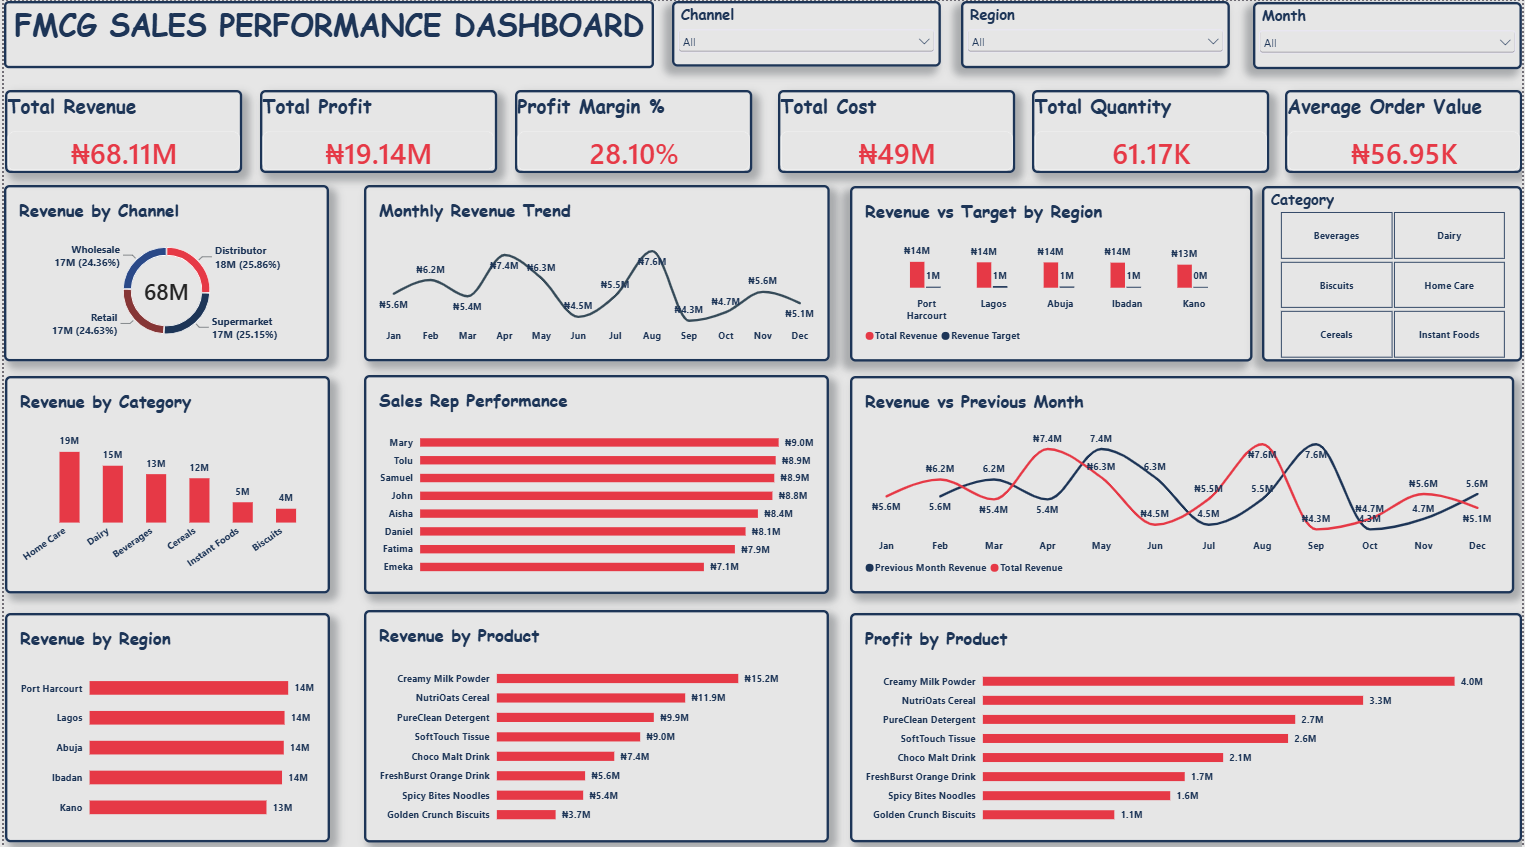

What the dashboard file says about the page in this screenshot:
{"tool":"powerbi","page":{"name":"Management Dashboard","canvas":[1920,1080],"ordinal":0},"visuals":[{"type":"cardVisual","title":"Total Revenue","fields":{"Data":["Measure Table.Total Revenue"]},"box":[1.3,112.8,300,105],"z":0},{"type":"slicer","fields":{"Values":["Date_Table.Month"]},"box":[1579.7,1.3,340,84.6],"z":1000},{"type":"columnChart","title":"Revenue by Category","fields":{"Y":["Sum(Sales_Data.Revenue)"],"Category":["Sales_Data.Category"]},"box":[1.3,474.2,411,275.4],"z":2000},{"type":"barChart","title":"Revenue by Region","fields":{"Y":["Sum(Sales_Data.Revenue)"],"Category":["Regions.Region"]},"box":[1.3,773.7,411,290.1],"z":3000},{"type":"barChart","title":"Profit by Product","fields":{"Category":["Sales_Data.Product_Name"],"Y":["Sum(Sales_Data.Profit)"]},"box":[1069.3,773.7,850.3,290.1],"z":4000},{"type":"donutChart","title":"Revenue by Channel","fields":{"Category":["Sales_Data.Channel"],"Y":["Sum(Sales_Data.Revenue)"]},"box":[0,232.4,411,223],"z":5000},{"type":"clusteredColumnChart","title":"Revenue vs Target by Region","fields":{"Y":["Measure Table.Total Revenue","Measure Table.Revenue Target"],"Category":["Regions.Region"]},"box":[1069.3,233.7,509.1,221.6],"z":6000},{"type":"lineChart","title":"Monthly Revenue Trend","fields":{"Y":["Measure Table.Total Revenue"],"Category":["Date_Table.Month"]},"box":[455.4,232.4,588.9,223.3],"z":7000},{"type":"slicer","fields":{"Values":["Regions.Region"]},"box":[1210.3,0,340,84.6],"z":8000},{"type":"slicer","fields":{"Values":["Sales_Data.Category"]},"box":[1590.4,233.7,329.1,221.6],"z":9000},{"type":"slicer","fields":{"Values":["Sales_Data.Channel"]},"box":[844.9,0,340,83.3],"z":10000},{"type":"clusteredBarChart","title":"Sales Rep Performance","fields":{"Category":["Sales_Data.Sales_Rep"],"Y":["Measure Table.Total Revenue"]},"box":[455.4,472.8,588.4,276.7],"z":11000},{"type":"lineChart","title":"Revenue vs Previous Month","fields":{"Category":["Date_Table.Month"],"Y":["Measure Table.Previous Month Revenue","Measure Table.Total Revenue"]},"box":[1069.3,474.2,839.6,275.4],"z":12000},{"type":"clusteredBarChart","title":"Revenue by Product","fields":{"Category":["Sales_Data.Product_Name"],"Y":["Measure Table.Total Revenue"]},"box":[455.4,769.7,588.4,294.2],"z":13000},{"type":"cardVisual","title":"Total Profit","fields":{"Data":["Measure Table.Total Profit"]},"box":[323.7,112.8,299.6,104.8],"z":14000},{"type":"cardVisual","title":"Profit Margin %","fields":{"Data":["Measure Table.Profit Margin %"]},"box":[646.1,112.8,300,105],"z":15000},{"type":"cardVisual","title":"Total Cost","fields":{"Data":["Measure Table.Total Cost"]},"box":[979.3,112.8,300,105],"z":16000},{"type":"cardVisual","title":"Total Quantity","fields":{"Data":["Measure Table.Total Quantity"]},"box":[1300.3,112.8,300,105],"z":17000},{"type":"textbox","box":[0,0,822.1,84.6],"z":18000},{"type":"cardVisual","title":"Average Order Value","fields":{"Data":["Measure Table.Average Order Value"]},"box":[1620,112.8,300,105],"z":19000}]}

Visuals, with their boxes in screenshot pixels (x1, y1, x2, y2), scaled from the page's 1920x1080 canvas onto the 1525x847 screenshot:
"Total Revenue" cardVisual: 1:88:239:171
slicer - Date_Table.Month: 1255:1:1524:67
"Revenue by Category" columnChart: 1:372:327:588
"Revenue by Region" barChart: 1:607:327:834
"Profit by Product" barChart: 849:607:1524:834
"Revenue by Channel" donutChart: 0:182:326:357
"Revenue vs Target by Region" clusteredColumnChart: 849:183:1254:357
"Monthly Revenue Trend" lineChart: 362:182:829:357
slicer - Regions.Region: 961:0:1231:66
slicer - Sales_Data.Category: 1263:183:1524:357
slicer - Sales_Data.Channel: 671:0:941:65
"Sales Rep Performance" clusteredBarChart: 362:371:829:588
"Revenue vs Previous Month" lineChart: 849:372:1516:588
"Revenue by Product" clusteredBarChart: 362:604:829:834
"Total Profit" cardVisual: 257:88:495:171
"Profit Margin %" cardVisual: 513:88:751:171
"Total Cost" cardVisual: 778:88:1016:171
"Total Quantity" cardVisual: 1033:88:1271:171
textbox: 0:0:653:66
"Average Order Value" cardVisual: 1287:88:1524:171
